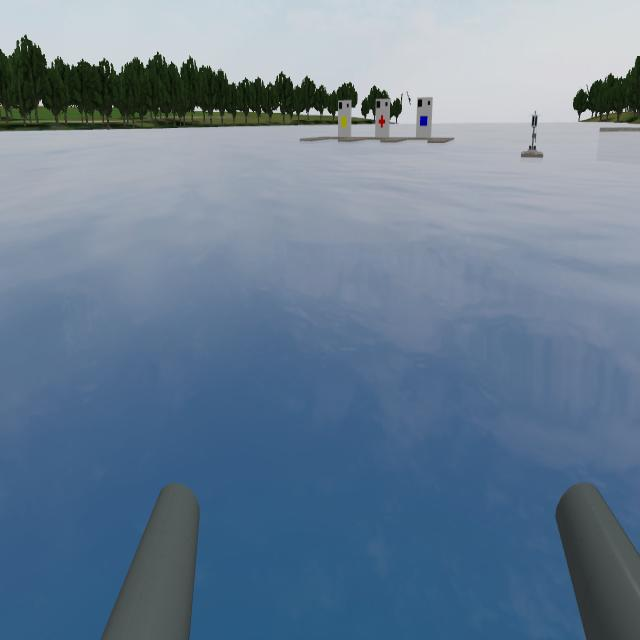black_pole: (527, 108, 543, 139)
